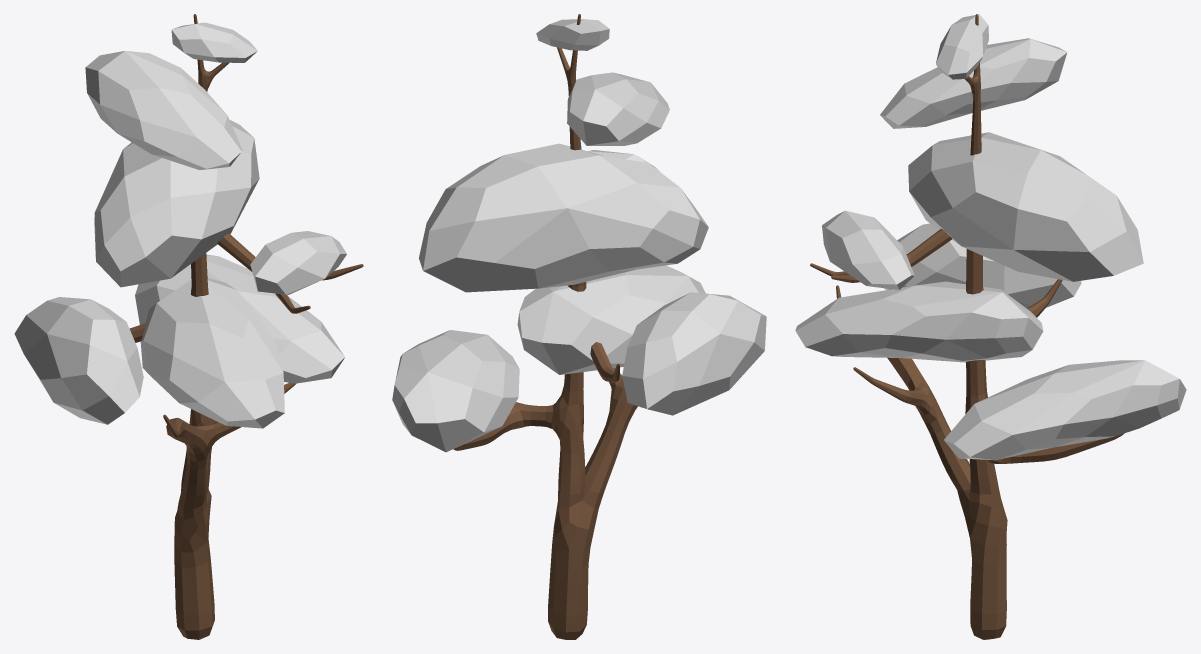
File: StandardTreeLOD1.fbx
3 views of the same model, side by side, from view 1: azimuth 30°, elevation 25°; view 2: azimuth 150°, elevation 25°; view 3: azimuth 270°, elevation 25° (orthographic).
Visible parts, largest first — view 1: Icosphere, Plane.011; view 2: Icosphere, Plane.011; view 3: Icosphere, Plane.011.
Part boxes in pixels (x1,y1,x2,y2): Icosphere: (14, 22, 346, 428); Plane.011: (129, 14, 363, 639); Icosphere: (392, 19, 766, 452); Plane.011: (453, 14, 637, 639); Icosphere: (795, 14, 1186, 460); Plane.011: (810, 14, 1124, 639).
Bounding box in the file's own units: 380 × 434 × 761.
